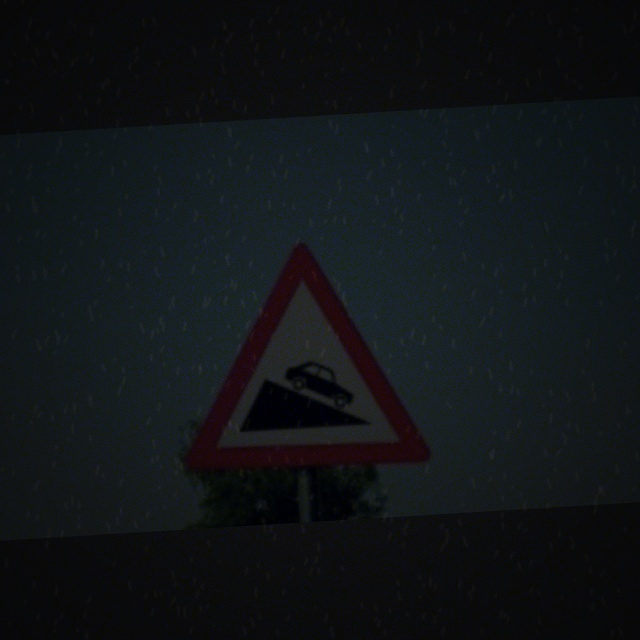Steep_Descent: (175, 235, 436, 485)
